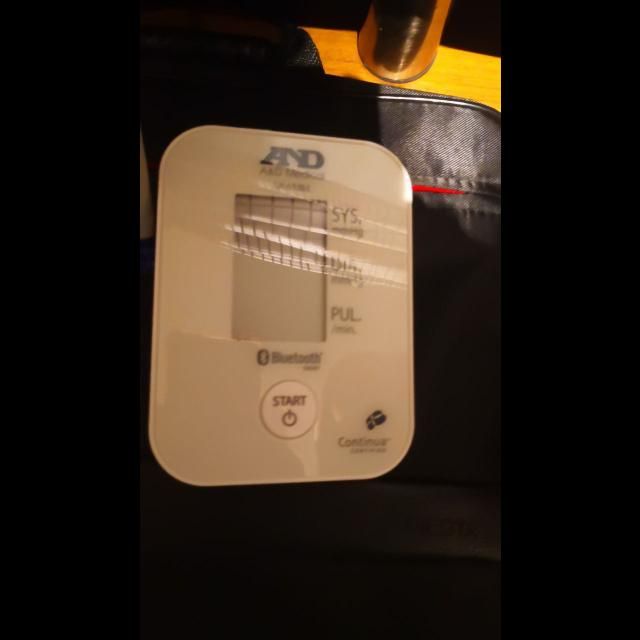Blood-Pressure-Monitor: (146, 125, 414, 487)
